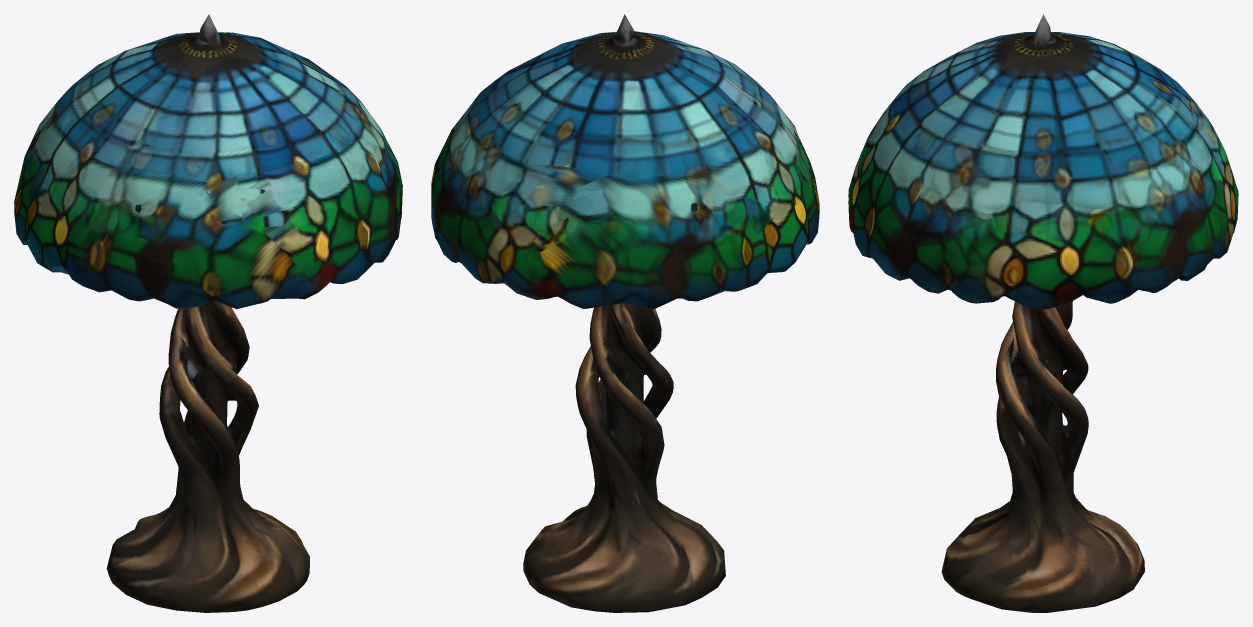
File: tiffany-lampe-3d.glb
3 renders of one model, left to right at view 1: azimuth 30°, elevation 25°; view 2: azimuth 150°, elevation 25°; view 3: azimuth 270°, elevation 25°, orthographic.
Parts seen in each view (by area): view 1: input; view 2: input; view 3: input.
Boxes of the visible parts, x1=… form: input: x1=14, y1=14, x2=402, y2=612; input: x1=431, y1=14, x2=819, y2=612; input: x1=848, y1=14, x2=1238, y2=612.
Size of the model in its own units: 0.3321 by 0.5497 by 0.3349.
1 material, 1 textured.
